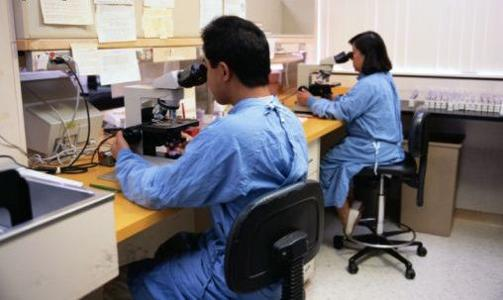person: (110, 17, 309, 299)
